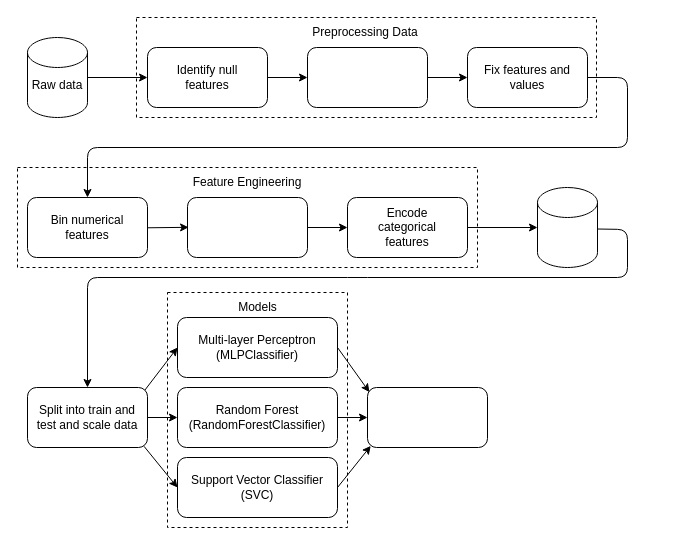
Some shapes in this 675 by 550 pixel diagram are drawn without their labels. Here are the shapes that lost their labels. From the top down, the box of each, then its label:
(306, 46, 428, 108): Identify negative values
(186, 196, 308, 258): Combine categorical features
(536, 186, 598, 268): Output Data
(366, 386, 488, 448): Accuracy and F1 Score
